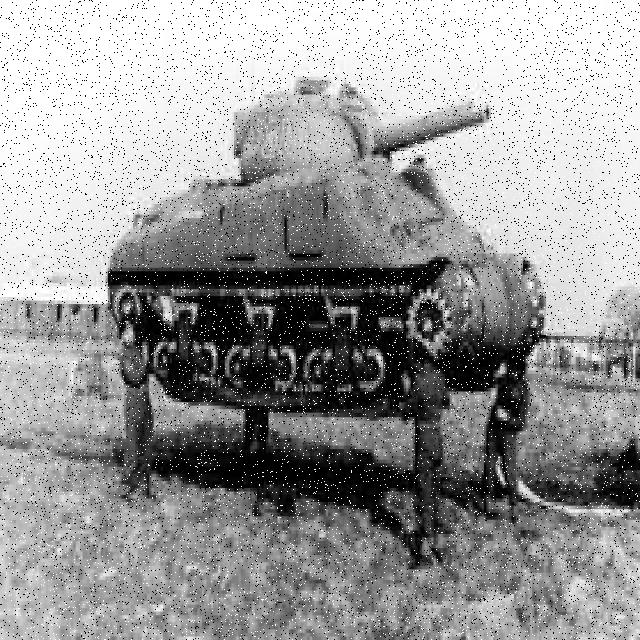MIL_MBT: (106, 73, 546, 414)
